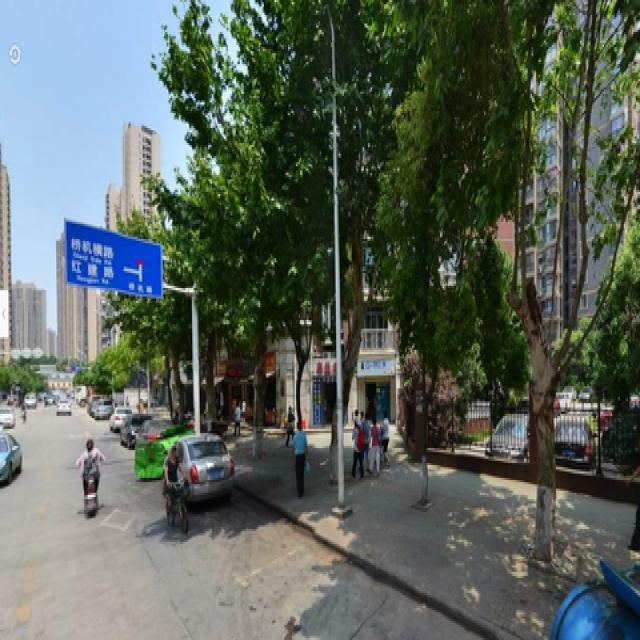meta: (449, 15, 608, 538), (220, 28, 364, 467)
